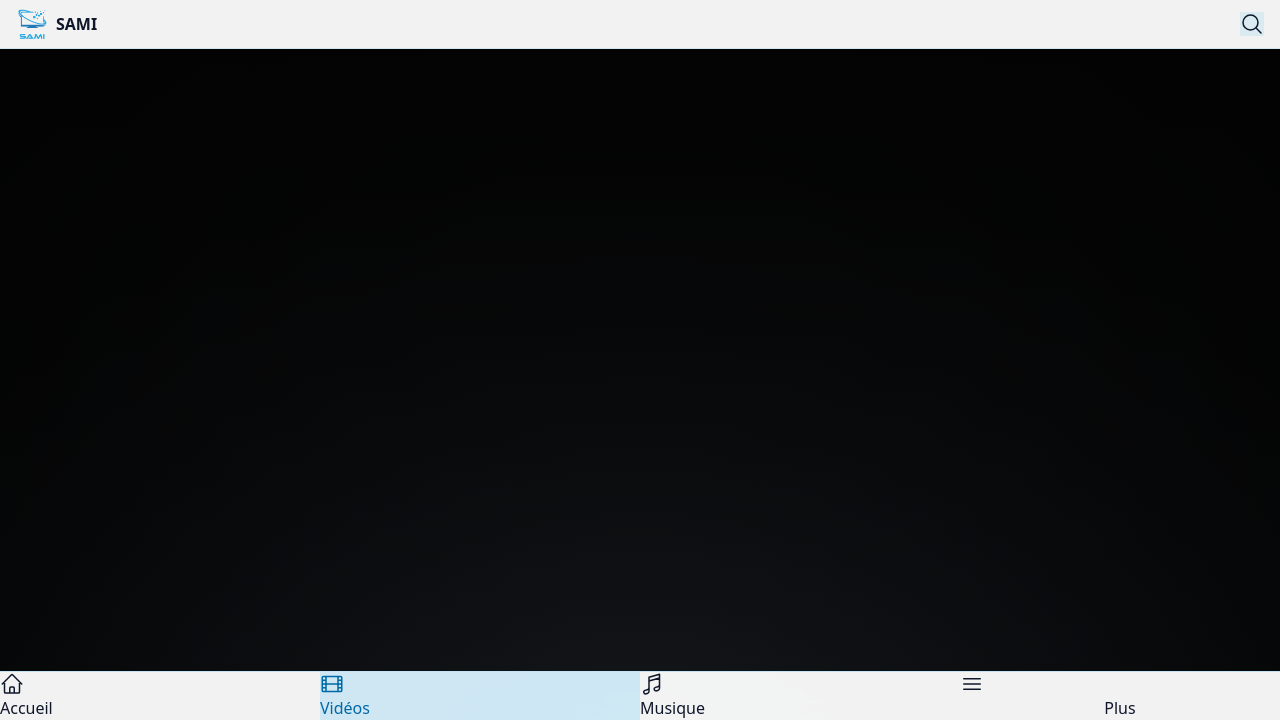
Scenario: une déconnexion échouée ne prétend pas fermer la session
This screenshot has width=1280, height=720.
Click the button with aria-label "Plus de rubriques": (1120, 696) [960, 672, 1279, 719]
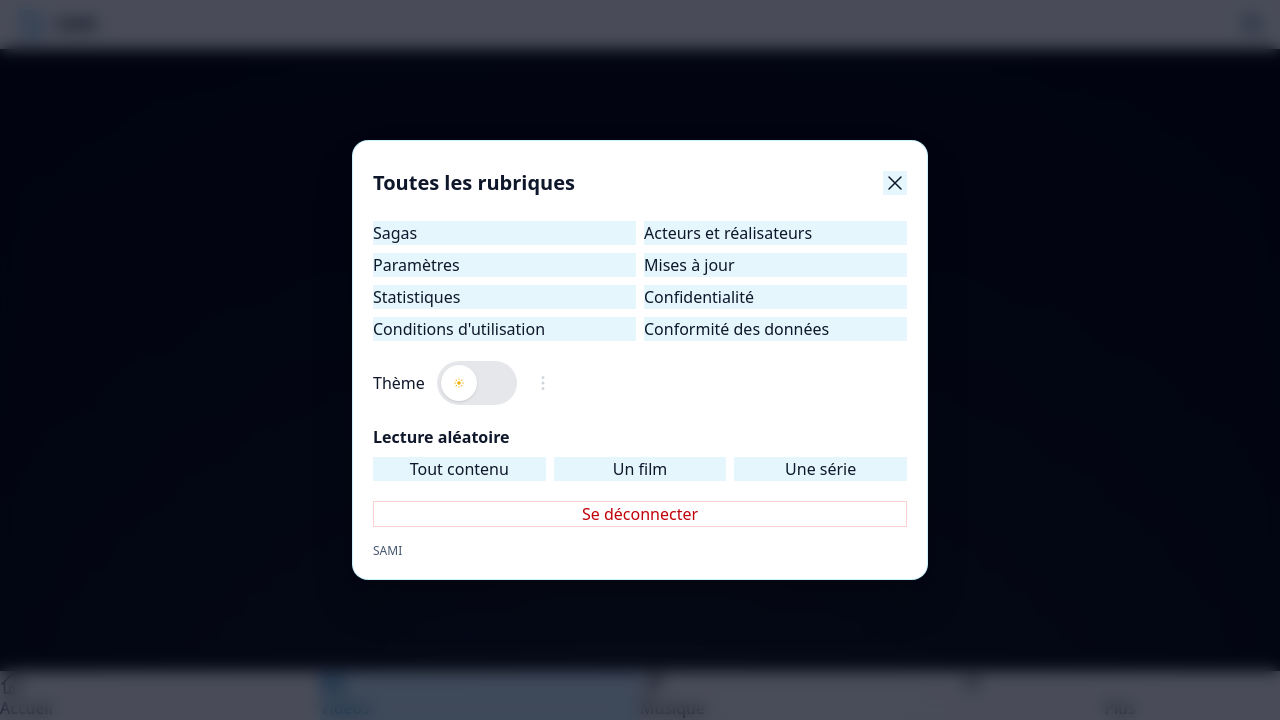
Click the button "Se déconnecter": (640, 514) [373, 501, 907, 527]
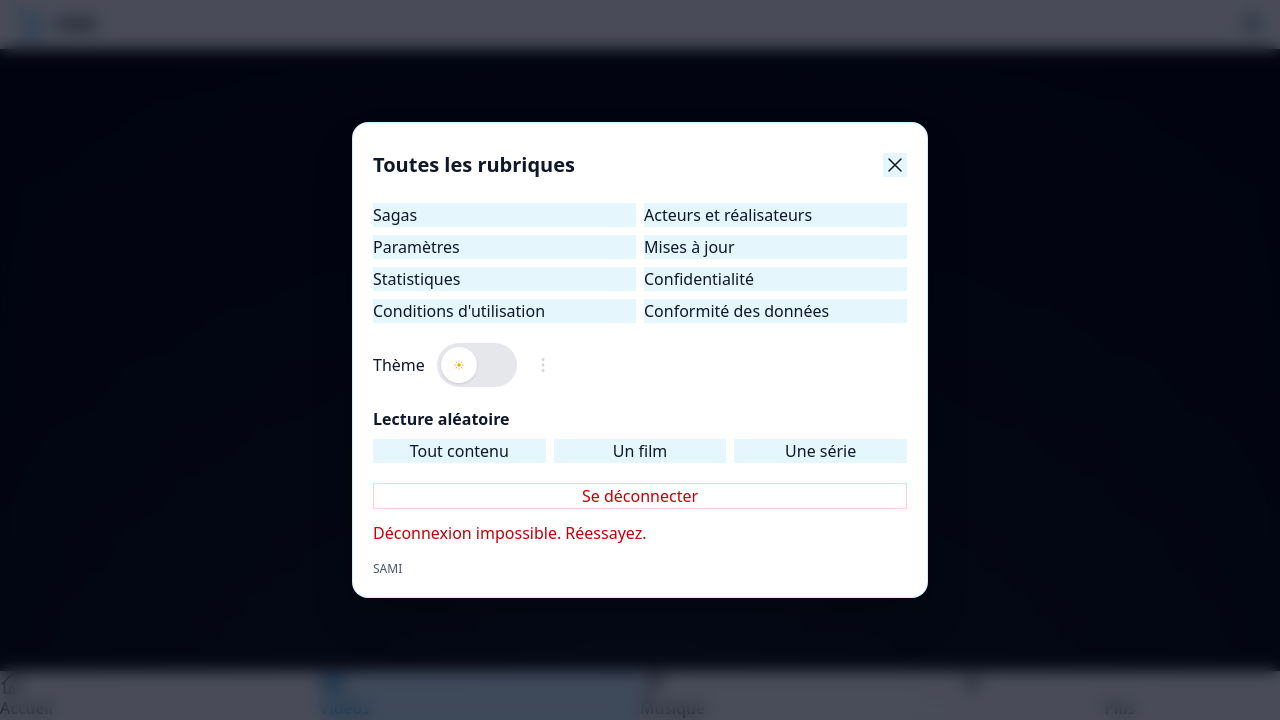
Now the message shows "Déconnexion impossible", box [373, 522, 646, 544]
